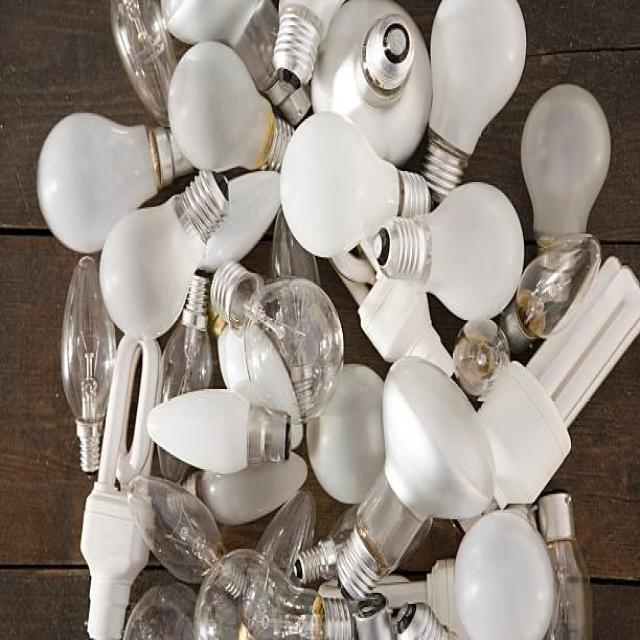metal: (33, 11, 626, 626)
